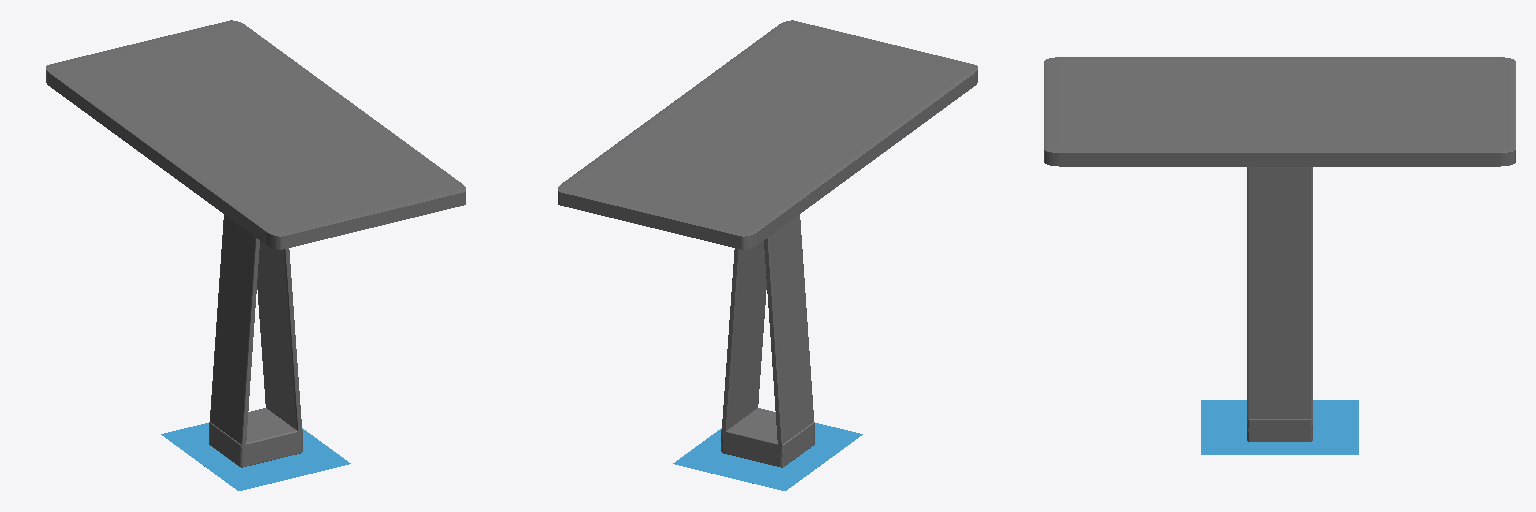
The robot description file, URDF, robot "magni_base":
<?xml version="1.0"?>

<robot name="magni_base">

  <!-- Link 0 -->
  <link name="link_0">
    <inertial>
      <mass value="1" />
      <inertia ixx="0" ixy="0" ixz="0" iyy="0" iyz="0" izz="0" />
    </inertial>
    <visual>
      <origin xyz="0 0 0" rpy="0 -0 0" />
      <geometry>
        <mesh filename="base.dae" scale="0.2 0.5 1" />
      </geometry>
      <material name="link_material">
        <color rgba="0.5 0.5 0.5 1" />
      </material>
    </visual>
    <collision>
      <origin xyz="0 0 0" rpy="0 -0 0" />
      <geometry>
        <mesh filename="base.dae" scale="0.2 0.5 1" />
      </geometry>
    </collision>
  </link>

  <!-- Marker Pad -->
  <link name="marker_pad">
    <visual>
      <origin xyz="0 0 0" rpy="0 0 0" />
      <geometry>
        <box size="0.1 0.12 1e-5" />
      </geometry>
      <material name="marker_material">
        <script>
          <uri>model://teste/materials/scripts</uri>
          <uri>model://teste/materials/textures</uri>
          <name>Marker0/Marker</name>
        </script>
      </material>
    </visual>
    <collision>
      <origin xyz="0 0 0" rpy="0 0 0" />
      <geometry>
        <box size="0.1 0.12 1e-5" />
      </geometry>
    </collision>
  </link>

  <!-- Fixed Joint -->
  <joint name="fixed_joint" type="fixed">
    <parent link="link_0" />
    <child link="marker_pad" />
    <origin xyz="0 0 0" rpy="0 0 0" />
  </joint>

</robot>

--- Facts derived from the render (not from the file) ---
3 views of the same robot in one strip: view 1: azimuth 30°, elevation 25°; view 2: azimuth 150°, elevation 25°; view 3: azimuth 270°, elevation 25° (orthographic).
Robot: magni_base — 2 links, 1 joints (1 fixed); root link link_0; default pose: every joint at zero.
Visible links, largest first — view 1: link_0, marker_pad; view 2: link_0, marker_pad; view 3: link_0, marker_pad.
Link boxes in pixels (<box>): link_0: <box>46,20,465,467</box>; marker_pad: <box>161,423,350,490</box>; link_0: <box>558,20,977,467</box>; marker_pad: <box>673,423,862,490</box>; link_0: <box>1044,57,1515,441</box>; marker_pad: <box>1201,400,1358,454</box>.
Size in the robot's own frame: 0.174 by 0.36 by 0.272 metres.
1 mesh visuals loaded from 1 distinct referenced files (1 Collada DAE).